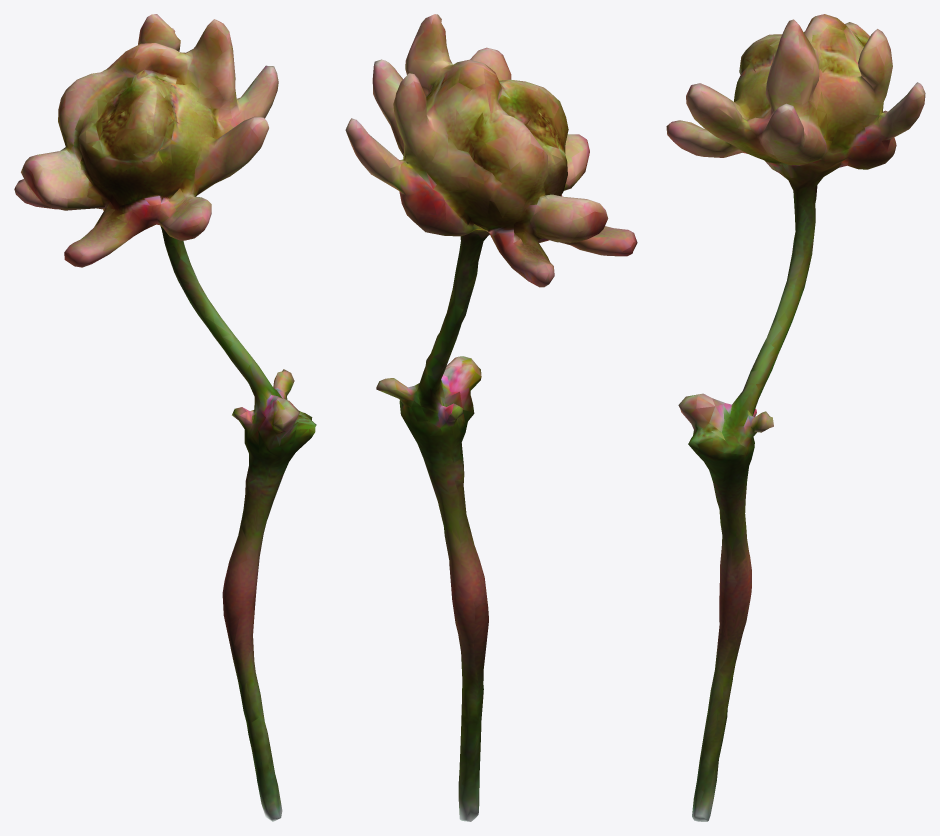
File: flower6.glb
The picture shows the model from 3 angles, left to right: view 1: azimuth 30°, elevation 25°; view 2: azimuth 150°, elevation 25°; view 3: azimuth 270°, elevation 25°; orthographic projection. The views are drawn at different scales.
Visible parts, largest first — view 1: flower6; view 2: flower6; view 3: flower6.
Part boxes in pixels (<box>): flower6: <box>14,14,316,821</box>; flower6: <box>345,14,637,821</box>; flower6: <box>666,14,925,821</box>.
Size of the model in its own units: 0.5289 by 1.68 by 0.4955.
1 material, 1 textured.
